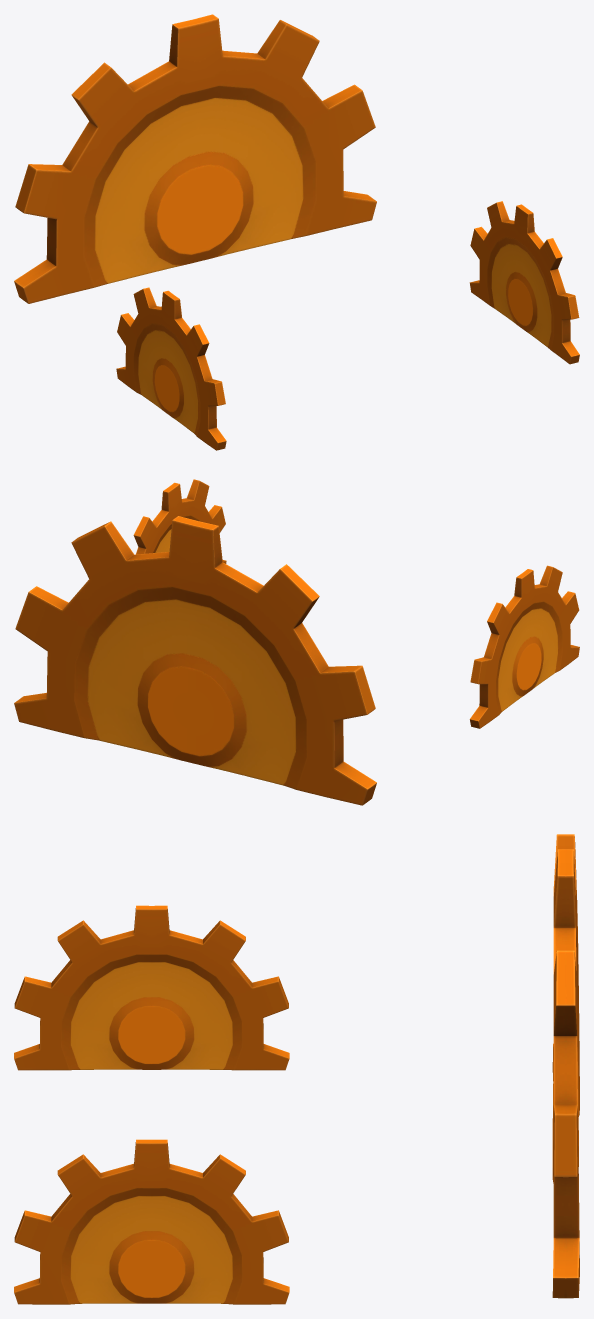
Rendered from obj_wall_base.gltf.
3 renders of one model, top to bottom at view 1: azimuth 30°, elevation 25°; view 2: azimuth 150°, elevation 25°; view 3: azimuth 270°, elevation 25°, orthographic. The views are drawn at different scales.
Visible parts, largest first — view 1: obj_wall_base; view 2: obj_wall_base; view 3: obj_wall_base.
Boxes of the visible parts, bbox=[...] form: obj_wall_base: bbox=[14, 14, 579, 450]; obj_wall_base: bbox=[14, 479, 579, 805]; obj_wall_base: bbox=[14, 834, 579, 1304].
Size of what is drawn, in the model's own units: 15.47 by 9.66 by 15.4.
Materials: 1 (1 with a texture image).
